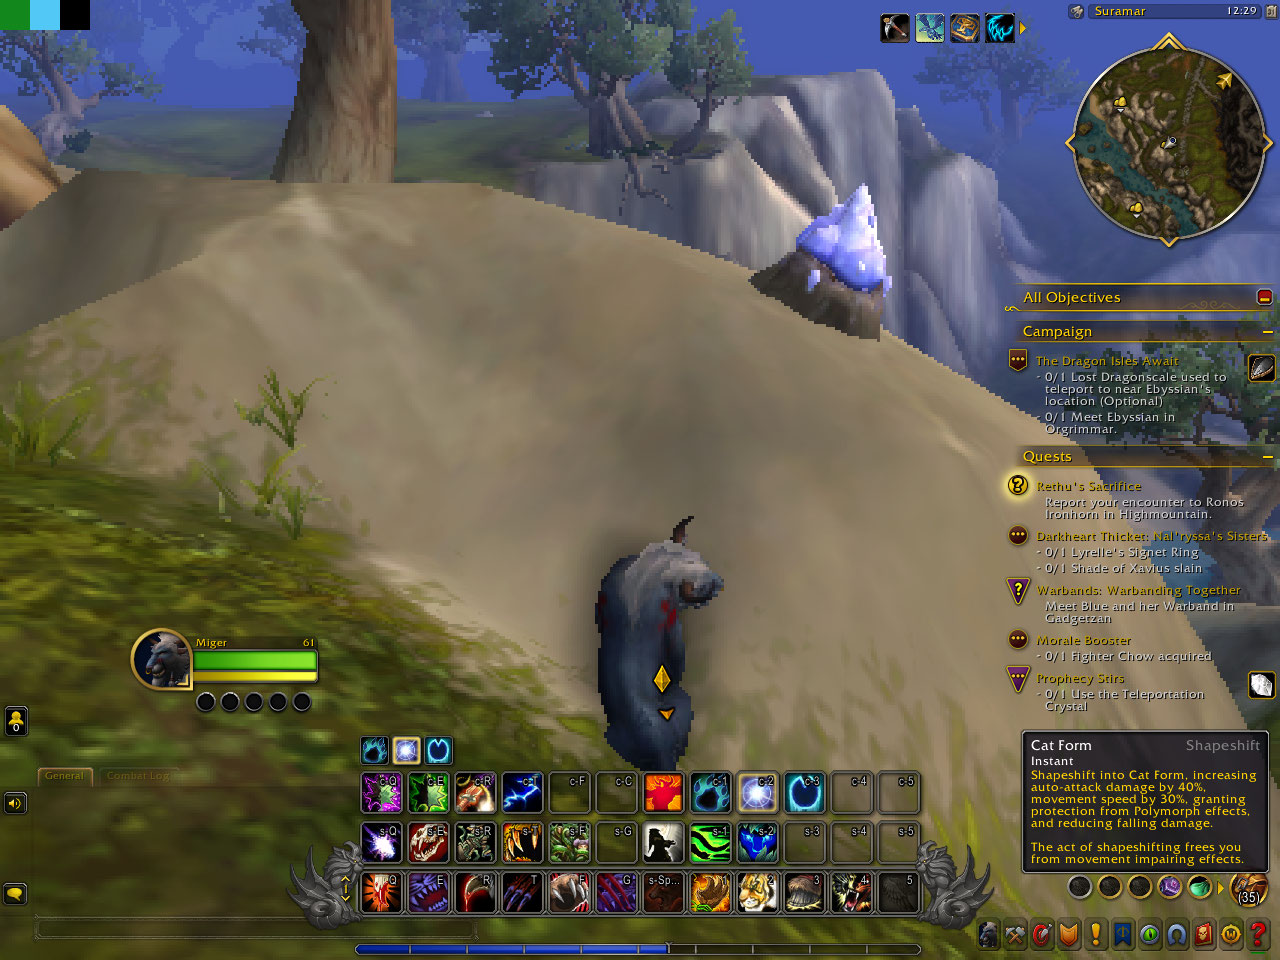ore: (748, 184, 890, 342)
